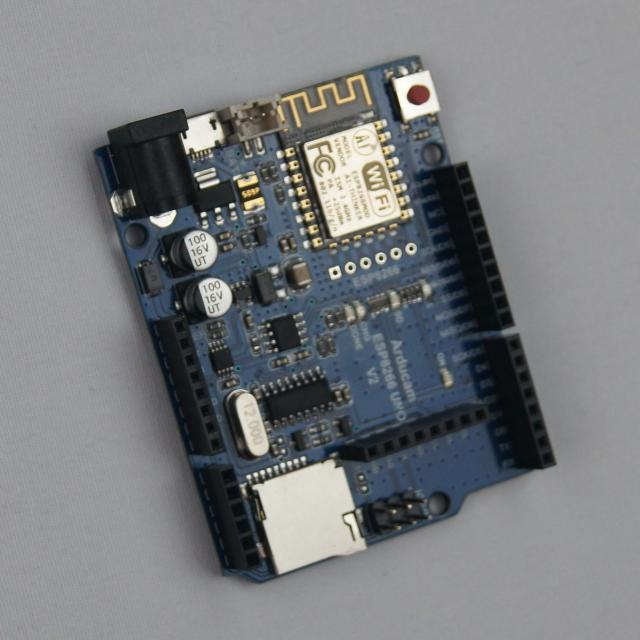Arduino Uno Camera Shield: (97, 57, 555, 582)
